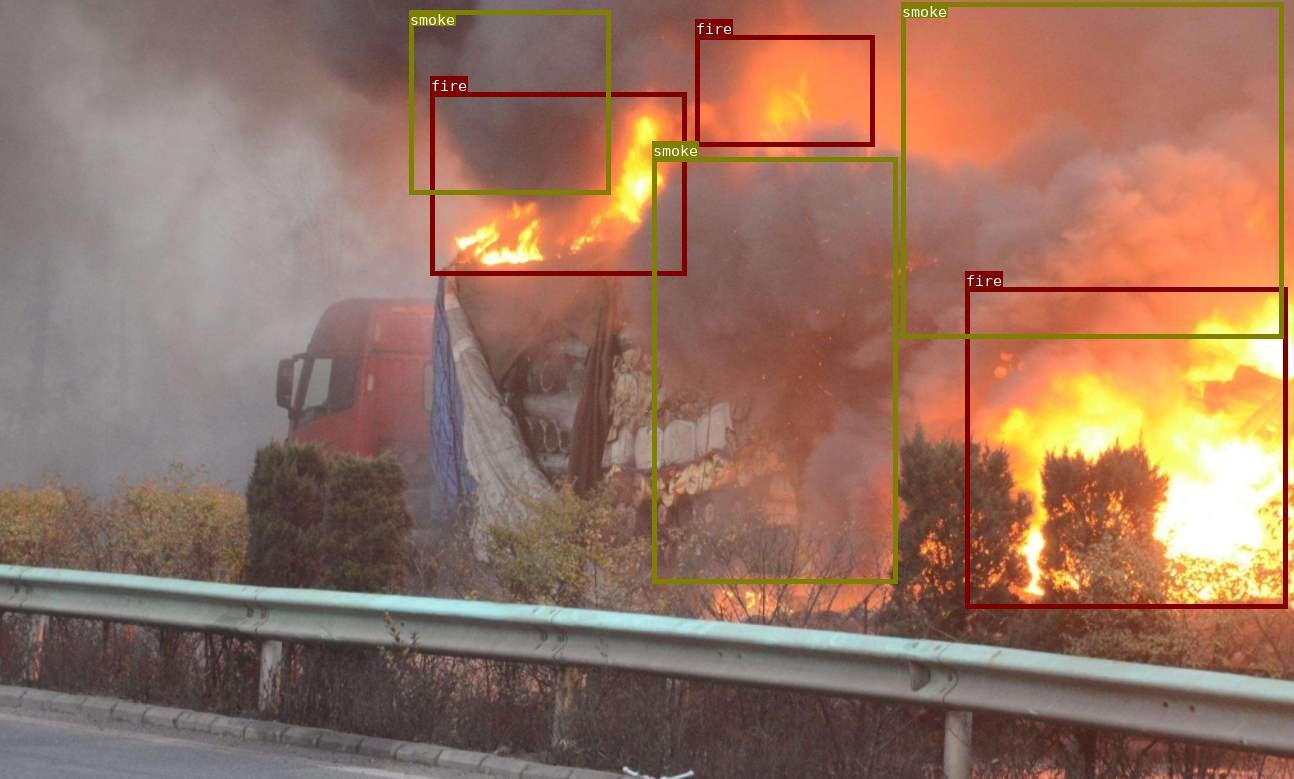fire: (965, 286, 1287, 607), (429, 92, 685, 275), (694, 34, 874, 146)
smoke: (901, 2, 1283, 338), (651, 157, 897, 583), (408, 10, 610, 193)
